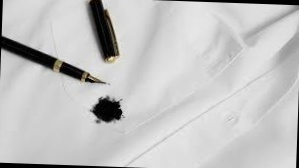ink: (92, 96, 125, 121)
